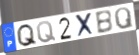2: (58, 17, 73, 42)
B: (94, 9, 114, 35)
Q: (16, 23, 39, 48), (113, 6, 135, 31), (35, 20, 57, 44)
X: (74, 11, 96, 39)
